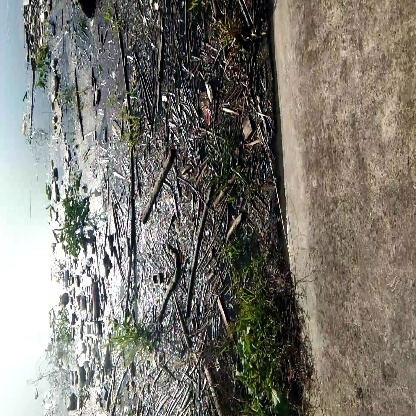branch: (179, 188, 214, 317)
